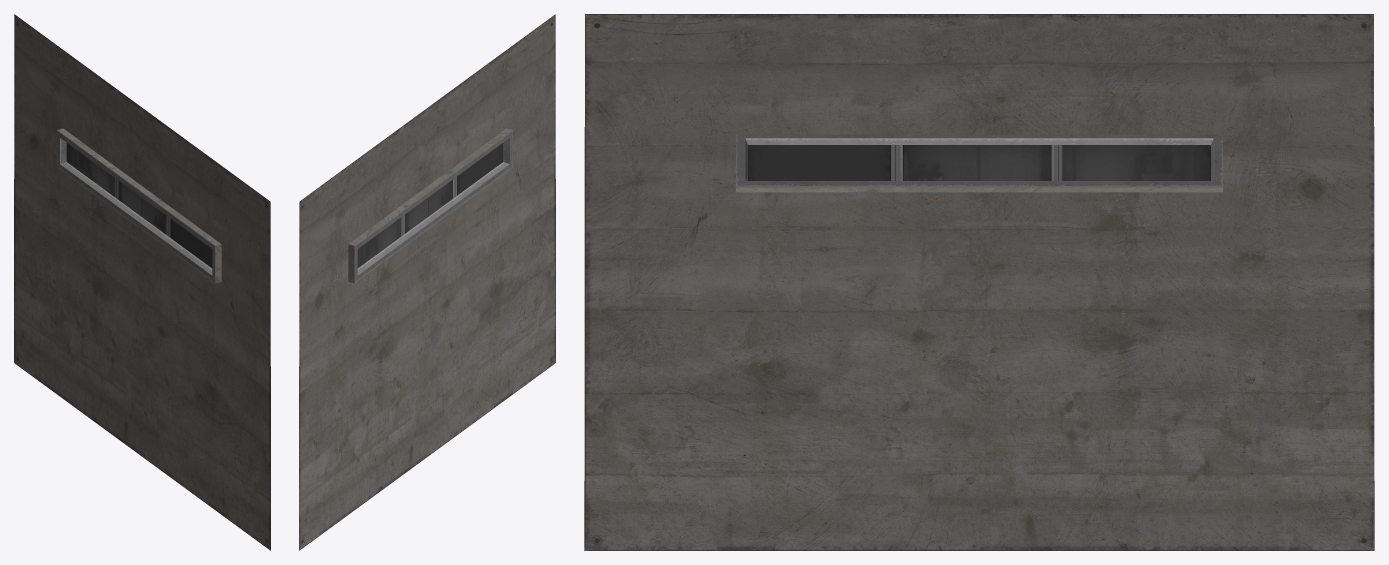
Rendered from CP_Windows_B_4x3m_11.fbx.
The picture shows the model from 3 angles, left to right: view 1: azimuth 30°, elevation 25°; view 2: azimuth 150°, elevation 25°; view 3: azimuth 270°, elevation 25°; orthographic projection. The views are drawn at different scales.
Parts seen in each view (by area): view 1: CP_Windows_B_4x3m_11; view 2: CP_Windows_B_4x3m_11; view 3: CP_Windows_B_4x3m_11.
Boxes of the visible parts, x1,y1,x2,y2 form: CP_Windows_B_4x3m_11: (14, 14, 270, 550); CP_Windows_B_4x3m_11: (299, 14, 555, 550); CP_Windows_B_4x3m_11: (584, 14, 1374, 550).
Size of the model in its own units: 5.75 by 300 by 400.
